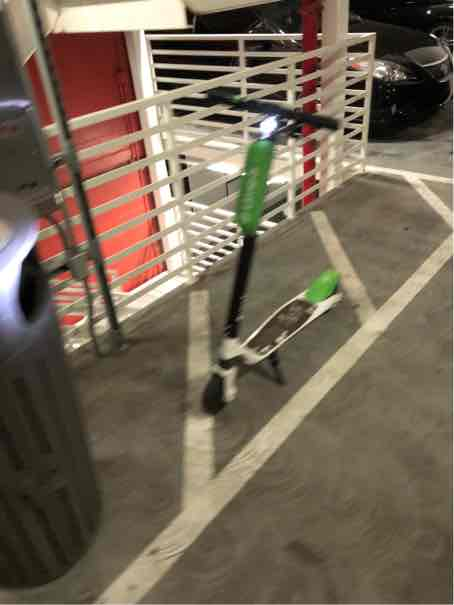scooter: (184, 91, 371, 418)
